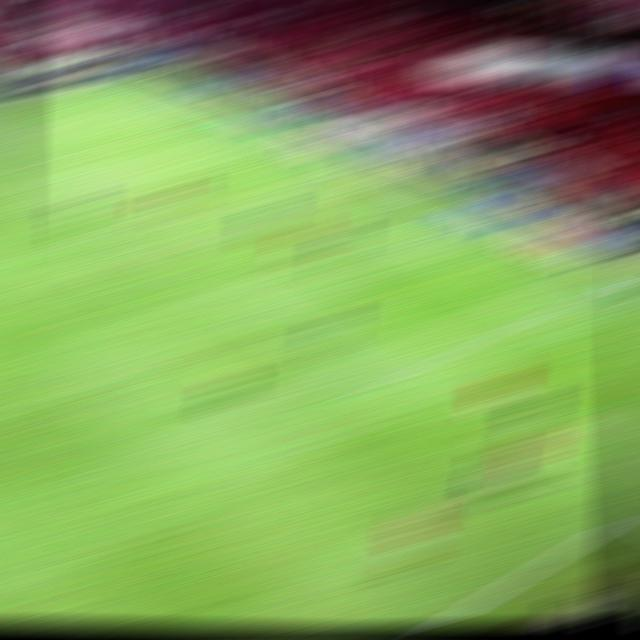bigarea_bottom_inner: (351, 378, 391, 397)
bigarea_bottom_outter: (584, 278, 630, 295)
bigarea_top_inner: (9, 156, 51, 173)
bigarea_top_outter: (201, 112, 243, 124)
bottom_arc_area_intersection: (204, 287, 252, 307)
corner: (123, 80, 162, 83)
smallarea_bottom_inner: (385, 244, 422, 256)
smallarea_bottom_outter: (450, 222, 488, 231)
smallarea_top_inner: (222, 165, 265, 179)
smallarea_top_outter: (285, 147, 321, 158)
top_arc_area_intersection: (91, 213, 131, 225)
